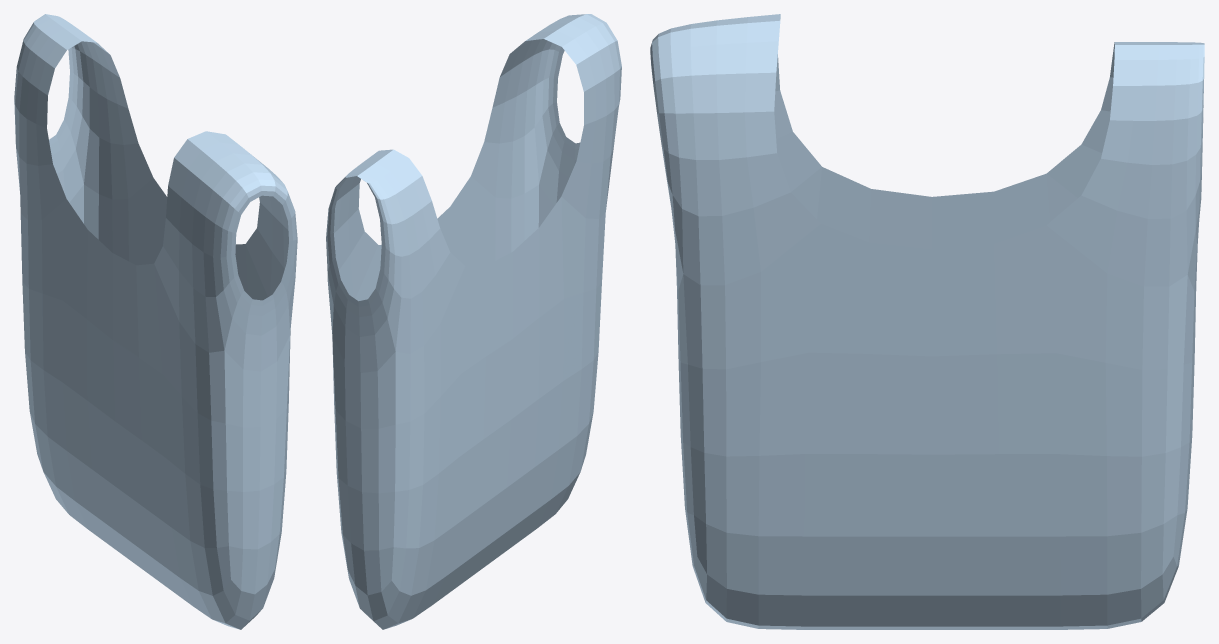
File: PlasticBag.glb
3 views of the same model, side by side, from view 1: azimuth 30°, elevation 25°; view 2: azimuth 150°, elevation 25°; view 3: azimuth 270°, elevation 25° (orthographic). The views are drawn at different scales.
Parts seen in each view (by area): view 1: Cube.011; view 2: Cube.011; view 3: Cube.011.
Boxes of the visible parts, x1,y1,x2,y2 form: Cube.011: [14, 14, 297, 629]; Cube.011: [326, 14, 621, 629]; Cube.011: [650, 14, 1204, 629].
Bounding box in the file's own units: 0.2761 × 1.34 × 1.12.
